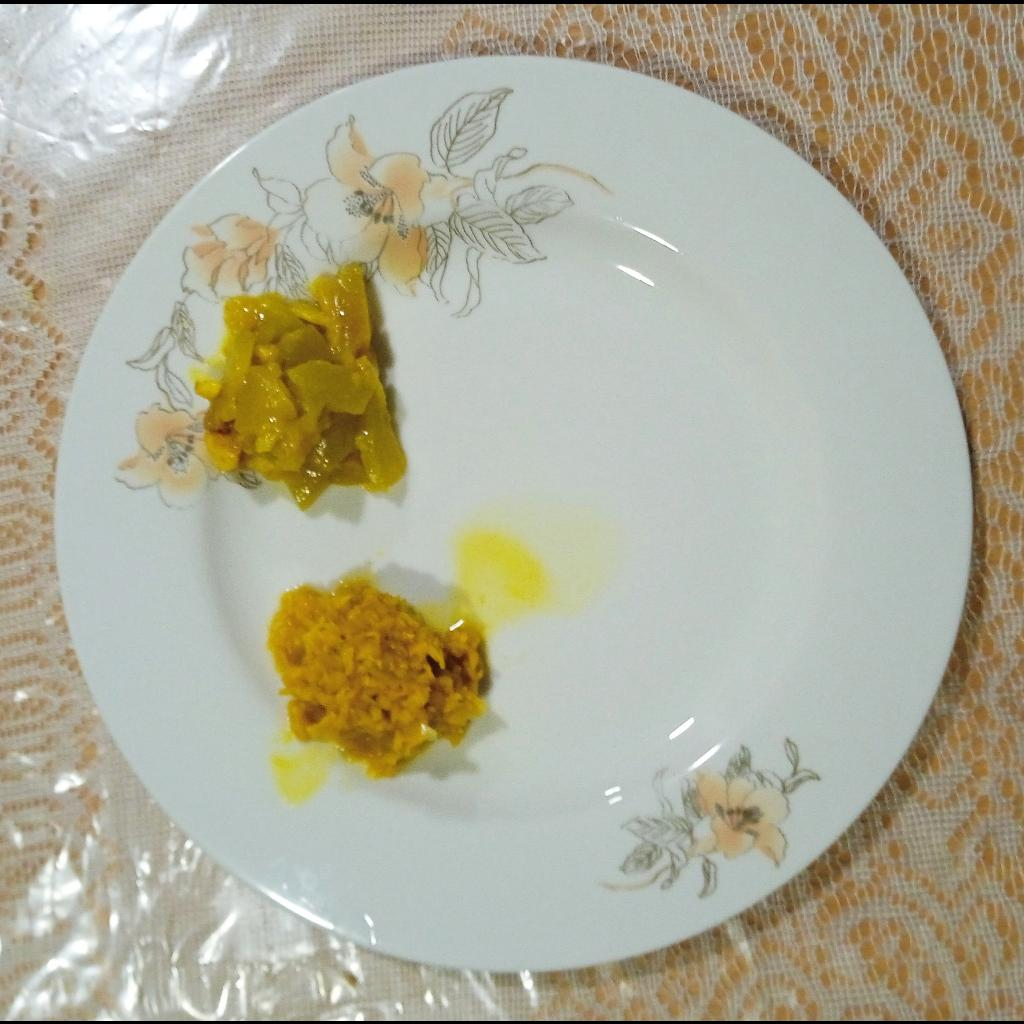cabbage: (264, 577, 487, 777)
lau: (192, 258, 414, 515)
